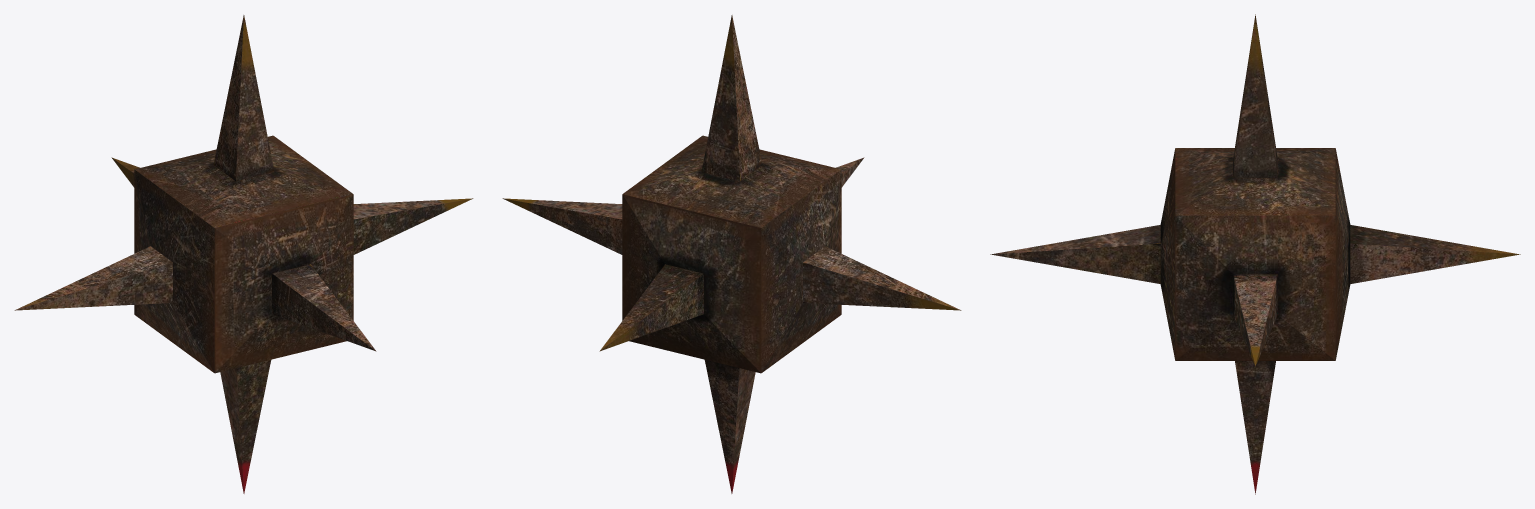
The model's file is Pincho (1).fbx.
3 renders of one model, left to right at view 1: azimuth 30°, elevation 25°; view 2: azimuth 150°, elevation 25°; view 3: azimuth 270°, elevation 25°, orthographic.
Visible parts, largest first — view 1: PIncho; view 2: PIncho; view 3: PIncho.
Boxes of the visible parts, left/top/right/bottom form: PIncho: left=14, top=15, right=473, bottom=493; PIncho: left=502, top=15, right=961, bottom=493; PIncho: left=990, top=14, right=1520, bottom=494.
Size of the model in its own units: 883 by 883 by 883.
